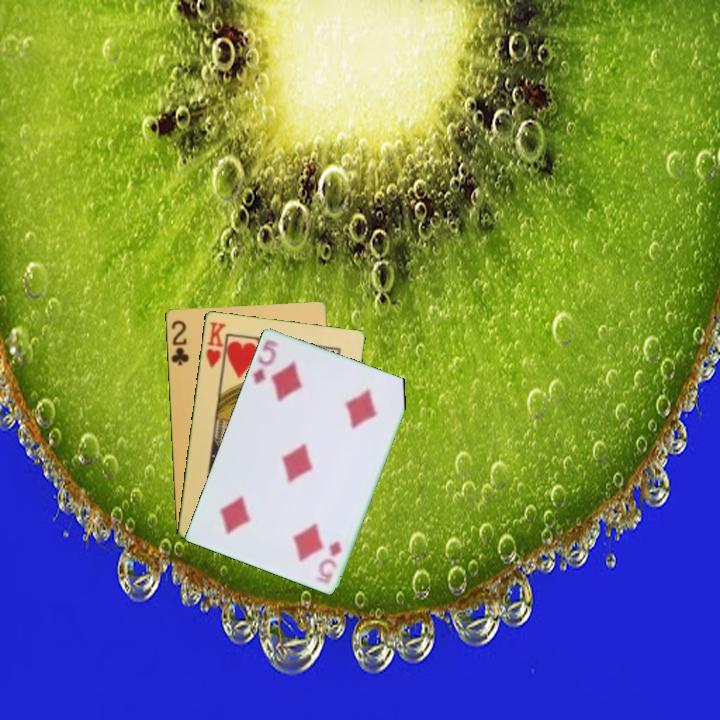2c: (168, 316, 191, 368)
5d: (249, 335, 281, 388), (318, 537, 345, 577)
Kh: (202, 318, 229, 375)
